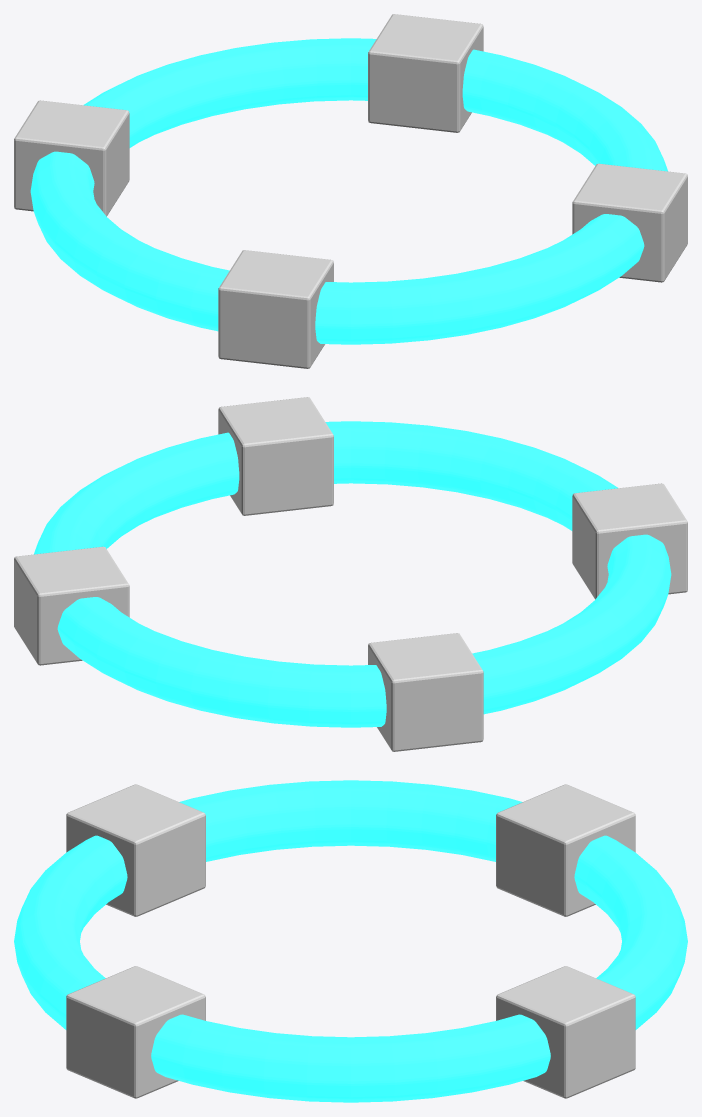
Rendered from egipto_ring.fbx.
The picture shows the model from 3 angles, top to bottom: view 1: azimuth 30°, elevation 25°; view 2: azimuth 150°, elevation 25°; view 3: azimuth 270°, elevation 25°; orthographic projection. The views are drawn at different scales.
Visible parts, largest first — view 1: egipto_ring; view 2: egipto_ring; view 3: egipto_ring.
Part boxes in pixels (bbox=[...]): egipto_ring: bbox=[14, 14, 687, 368]; egipto_ring: bbox=[14, 397, 687, 751]; egipto_ring: bbox=[14, 780, 687, 1102].
Size of the model in its own units: 2.42 by 0.3 by 2.42.
